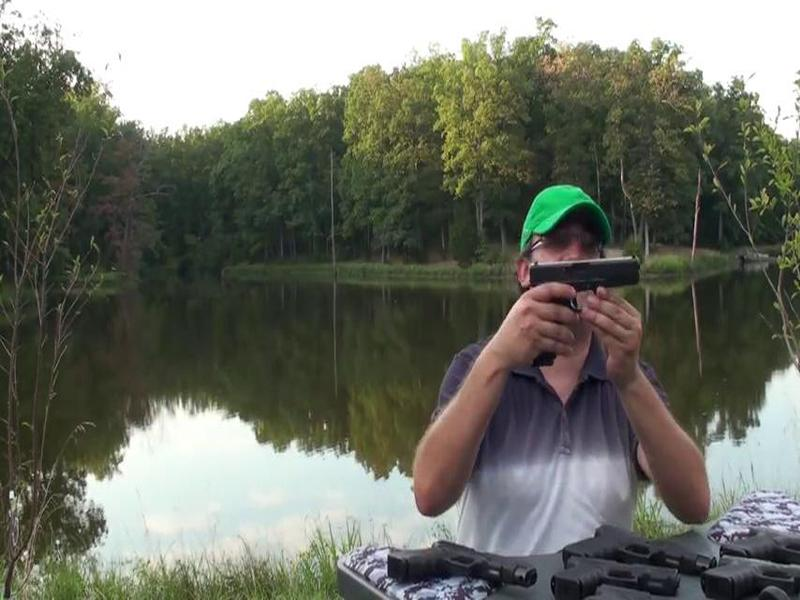Pistola: (503, 247, 648, 383)
